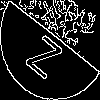Z: (25, 25, 69, 80)
